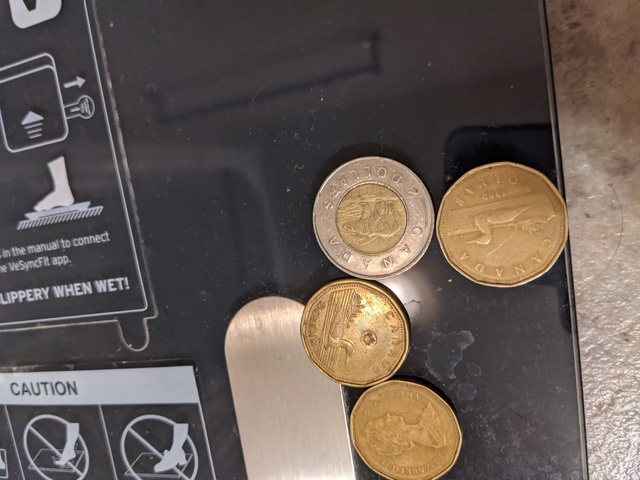loonie: (437, 167, 578, 297), (338, 374, 472, 479), (290, 271, 411, 387)
twonie: (305, 157, 438, 275)
